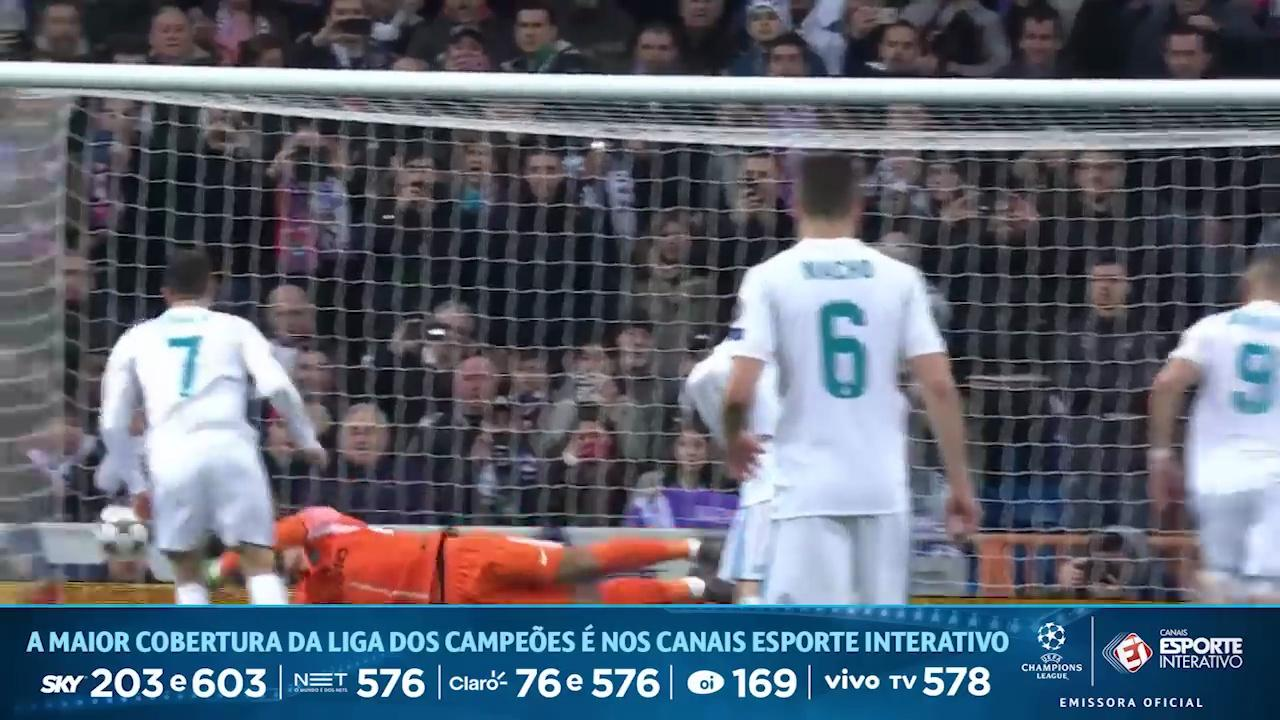football: (97, 506, 149, 559)
player: (723, 154, 976, 603), (101, 249, 326, 604), (1149, 255, 1279, 601), (276, 507, 729, 603), (717, 365, 777, 603)
